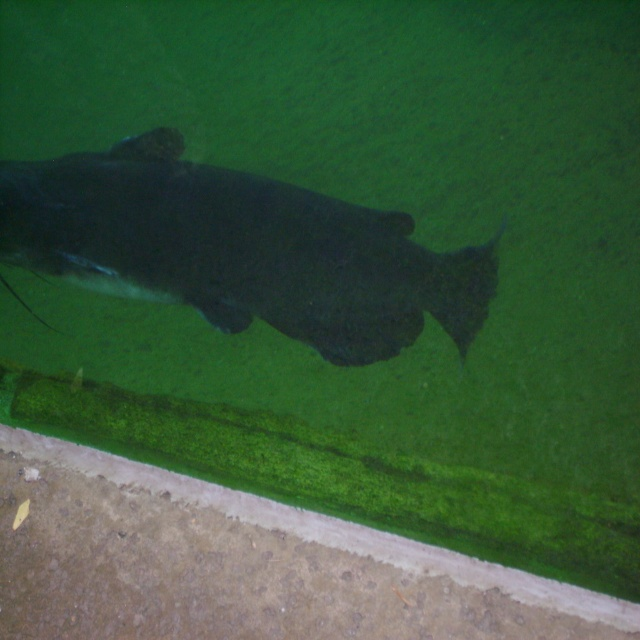Fish: (6, 151, 547, 387)
